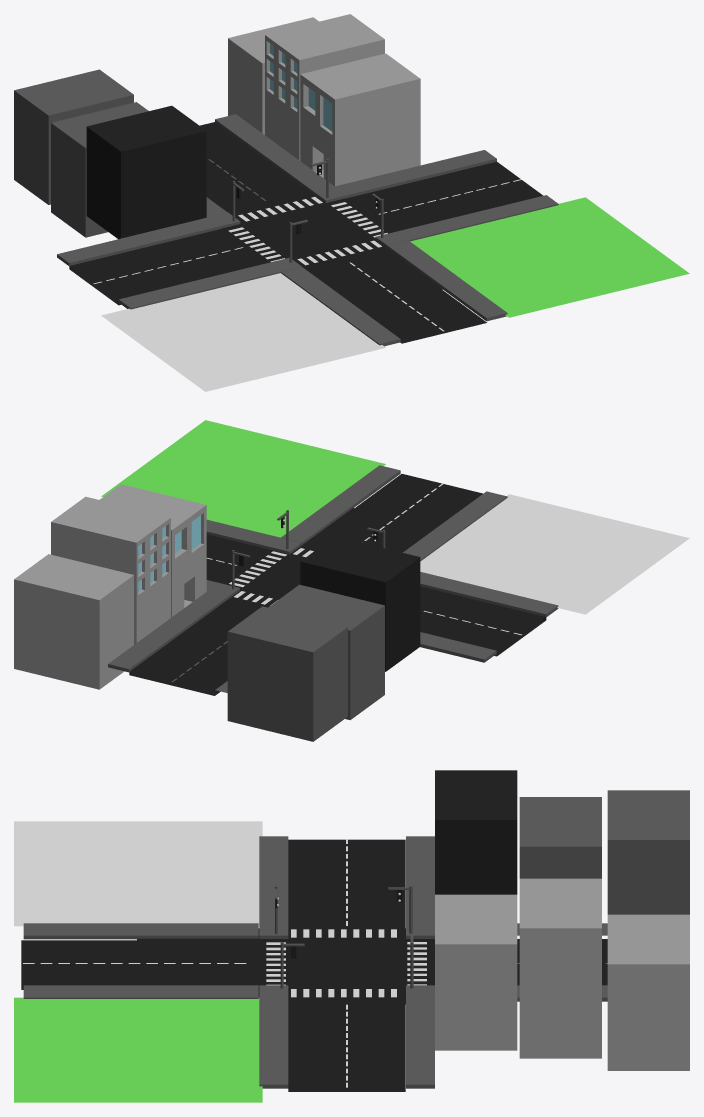
Rendered from VRGJBlockout.fbx.
3 views of the same model, one above another, from view 1: azimuth 30°, elevation 25°; view 2: azimuth 150°, elevation 25°; view 3: azimuth 270°, elevation 25° (orthographic). The views are drawn at different scales.
Parts seen in each view (by area): view 1: Plane.000, Plane.017, Plane.001; view 2: Plane.000, Plane.001, Plane.017; view 3: Plane.000, Plane.001, Plane.017.
Boxes of the visible parts, x1,y1,x2,y2 form: Plane.000: (14,14,543,301); Plane.017: (57,114,558,346); Plane.001: (101,197,689,391); Plane.000: (14,484,545,741); Plane.001: (101,420,689,614); Plane.017: (108,465,558,695); Plane.000: (288,770,689,1087); Plane.001: (14,821,262,1102); Plane.017: (21,836,607,1091).
Bounding box in the file's own units: 7931 × 1960 × 8052.
